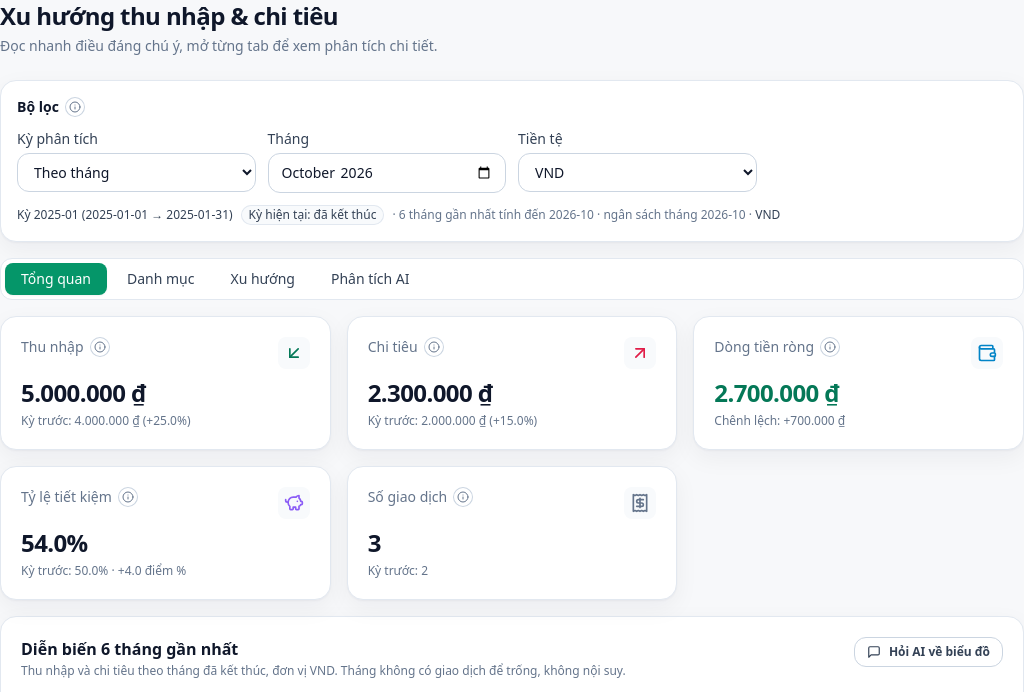
AnalyticsPage — overview › shows income sources, expense volatility and descriptive wording
The width and height of the screenshot is (1024, 692).
What coordinates should you click on to do the following:
click the tab "Danh mục"
I would click on:
 (161, 279)
Its box is x1=111 y1=263 x2=210 y2=295.
(page scrolled)
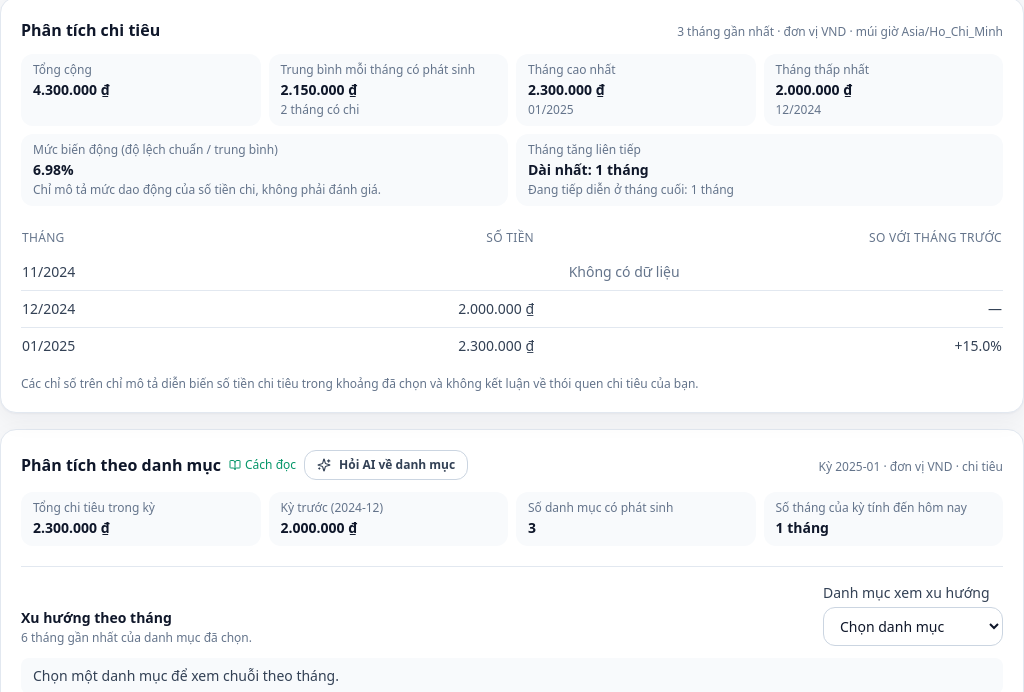
Now the text "Mức biến động (độ lệch chuẩn / trung bình)" is shown, box x1=33 y1=141 x2=278 y2=158
Now the text "6.98%" is shown, box x1=33 y1=160 x2=74 y2=179
Now the text "không kết luận về thói quen chi tiêu của bạn" is shown, box x1=21 y1=375 x2=698 y2=392
